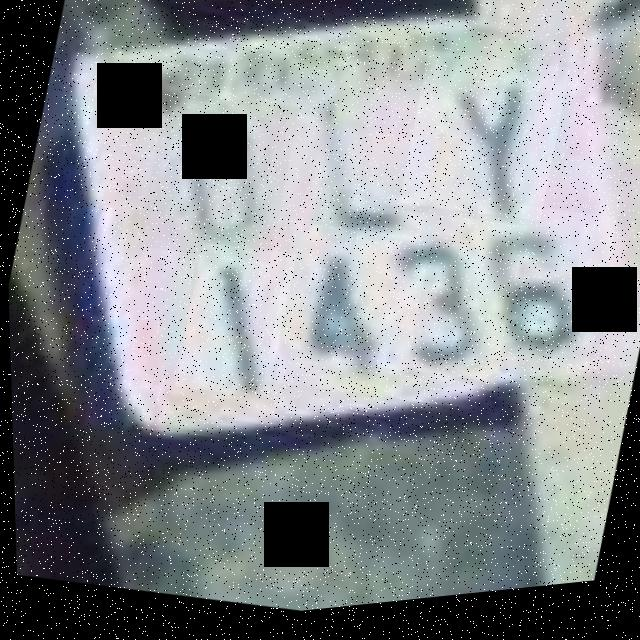1: (169, 239, 297, 411)
3: (325, 199, 529, 405)
4: (257, 216, 434, 417)
6: (444, 199, 619, 393)
L: (262, 60, 452, 262)
O: (131, 83, 302, 279)
Y: (393, 48, 572, 243)
